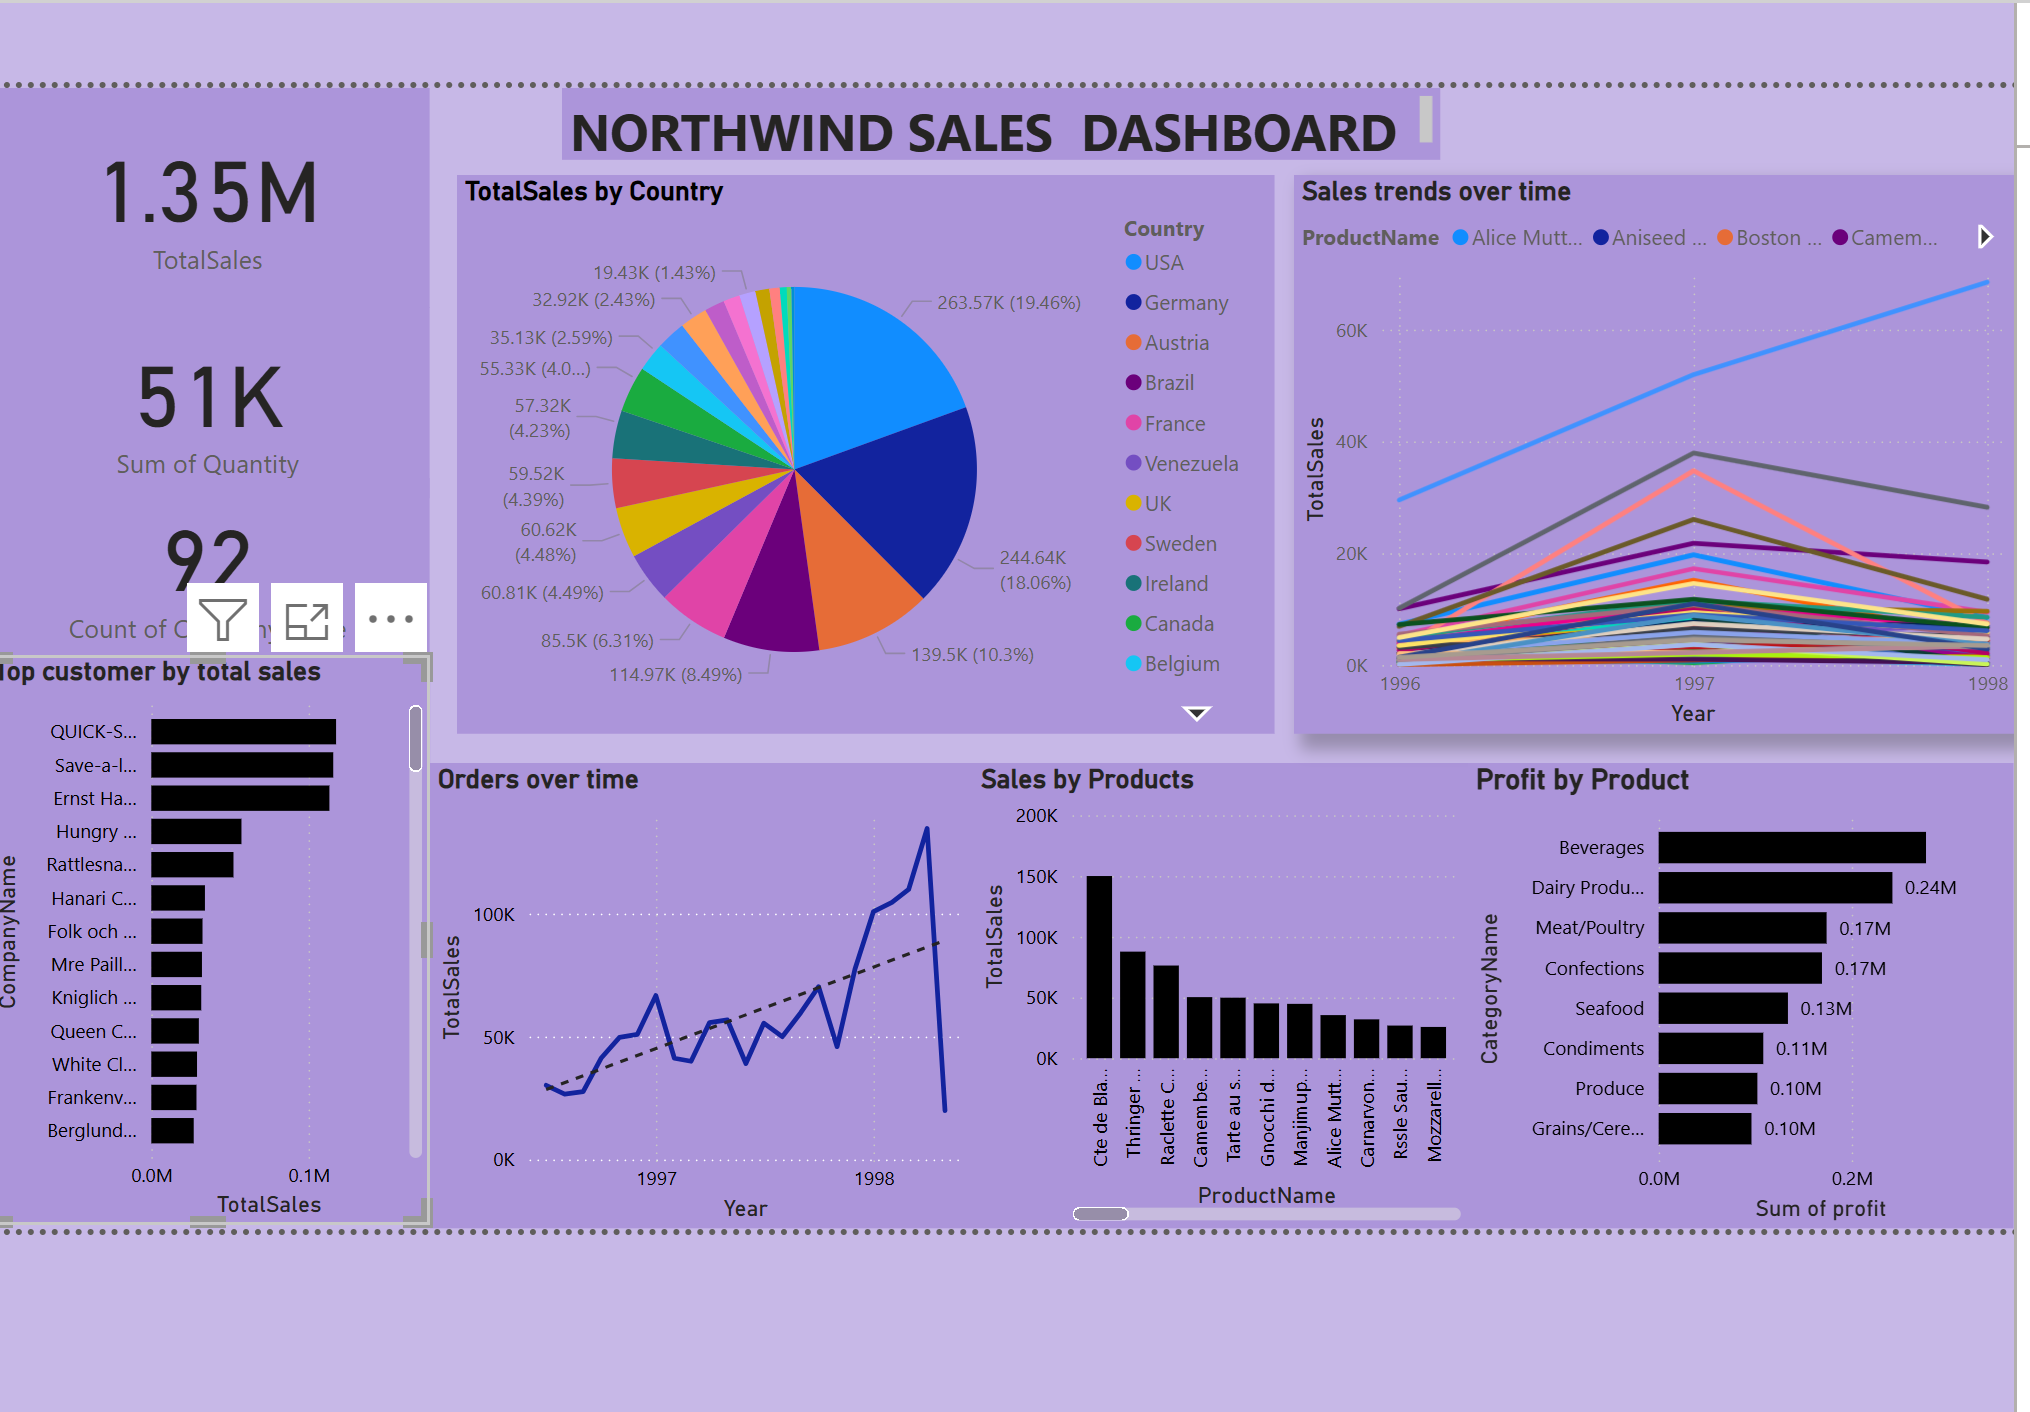

Layout of this report page (visuals, bound fields, positions):
{"tool":"powerbi","page":{"name":"Page 2","canvas":[1280,720],"ordinal":0},"visuals":[{"type":"lineChart","title":"Orders over time","fields":{"Category":["Calendar.Date.Variation.Date Hierarchy.Year","Calendar.Date.Variation.Date Hierarchy.Month"],"Y":["OrderDetails.TotalSales"]},"box":[279.9,426.8,343.1,293.7],"z":0},{"type":"card","fields":{"Values":["OrderDetails.TotalSales"]},"box":[0,0,279.9,138.6],"z":1000},{"type":"card","fields":{"Values":["Sum(OrderDetails.Quantity)"]},"box":[0,138.6,279.9,120.8],"z":2000},{"type":"card","fields":{"Values":["Count(Customers.CompanyName)"]},"box":[0,247,279.9,112.5],"z":3000},{"type":"pieChart","fields":{"Category":["Customers.Country"],"Y":["OrderDetails.TotalSales"]},"box":[296.4,54.9,516,352.7],"z":4000},{"type":"barChart","title":"Top customer by total sales","fields":{"Category":["Customers.CompanyName"],"Y":["OrderDetails.TotalSales"]},"box":[0,357.9,280.2,359.8],"z":5000},{"type":"clusteredColumnChart","title":"Sales by Products","fields":{"Category":["Products.ProductName"],"Y":["OrderDetails.TotalSales"]},"box":[623,426.8,312.9,293.7],"z":7000},{"type":"lineChart","title":"Sales trends over time","fields":{"Category":["Calendar.Date.Variation.Date Hierarchy.Year","Calendar.Date.Variation.Date Hierarchy.Month"],"Y":["OrderDetails.TotalSales"],"Series":["Products.ProductName"]},"box":[824.7,54.9,455.6,352.7],"z":8000},{"type":"textbox","box":[363.6,0,554.4,45.3],"z":10000},{"type":"barChart","title":"Profit by Product ","fields":{"Category":["Categories.CategoryName"],"Y":["Sum(OrderDetails.profit)"]},"box":[935.9,426.8,344.4,293.7],"z":11000}]}

Visuals, with their boxes on the page's 1280x720 design canvas (x1, y1, x2, y2). These are canvas units, not pixel positions in the 2030x1412 screenshot, which may show the page scaled, cropped or inside an application window:
"Orders over time" lineChart: 280,427,623,720
card - OrderDetails.TotalSales: 0,0,280,139
card - Sum(OrderDetails.Quantity): 0,139,280,259
card - Count(Customers.CompanyName): 0,247,280,360
pieChart - Customers.Country x OrderDetails.TotalSales: 296,55,812,408
"Top customer by total sales" barChart: 0,358,280,718
"Sales by Products" clusteredColumnChart: 623,427,936,720
"Sales trends over time" lineChart: 825,55,1280,408
textbox: 364,0,918,45
"Profit by Product " barChart: 936,427,1280,720
